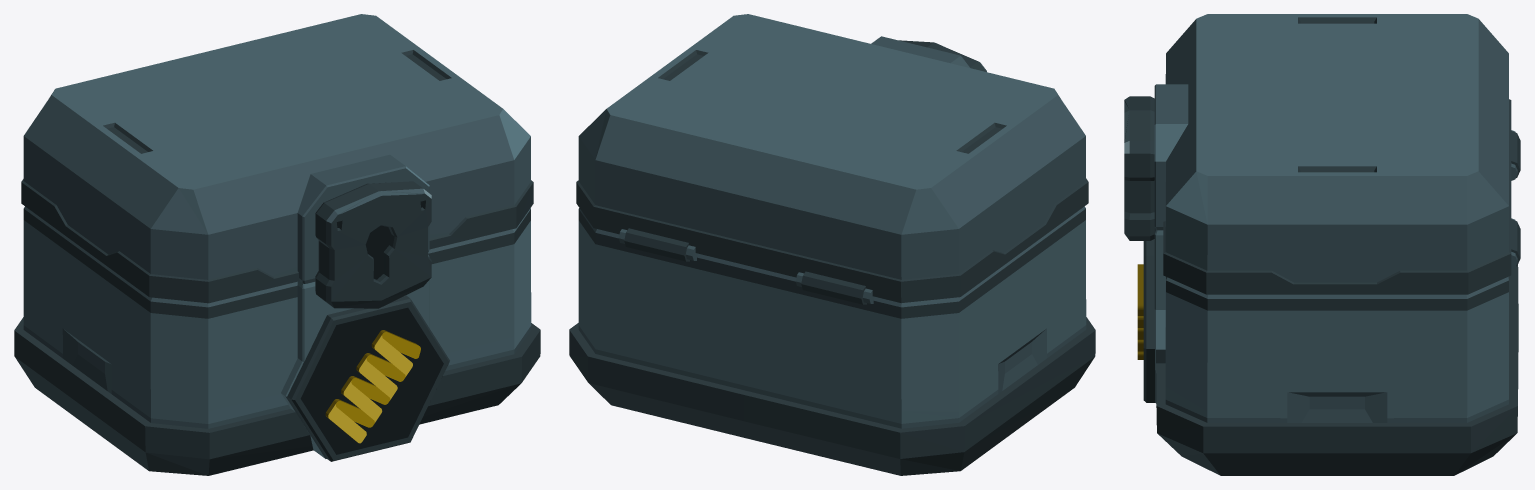
File: BOX_MATERAL_G1_02_1.fbx
The picture shows the model from 3 angles, left to right: view 1: azimuth 30°, elevation 25°; view 2: azimuth 150°, elevation 25°; view 3: azimuth 270°, elevation 25°; orthographic projection. The views are drawn at different scales.
Visible parts, largest first — view 1: Object003, BOX_MATERAL_G1_02, Object004; view 2: Object003, BOX_MATERAL_G1_02; view 3: Object003, BOX_MATERAL_G1_02, Object004.
Part boxes in pixels (bbox=[...]): Object003: bbox=[21, 14, 533, 303]; BOX_MATERAL_G1_02: bbox=[14, 206, 540, 475]; Object004: bbox=[315, 181, 431, 308]; Object003: bbox=[576, 14, 1088, 304]; BOX_MATERAL_G1_02: bbox=[569, 206, 1095, 475]; Object003: bbox=[1154, 14, 1520, 294]; BOX_MATERAL_G1_02: bbox=[1137, 228, 1518, 475]; Object004: bbox=[1124, 96, 1154, 240].
Size of the model in its own units: 187 by 128 by 158.
